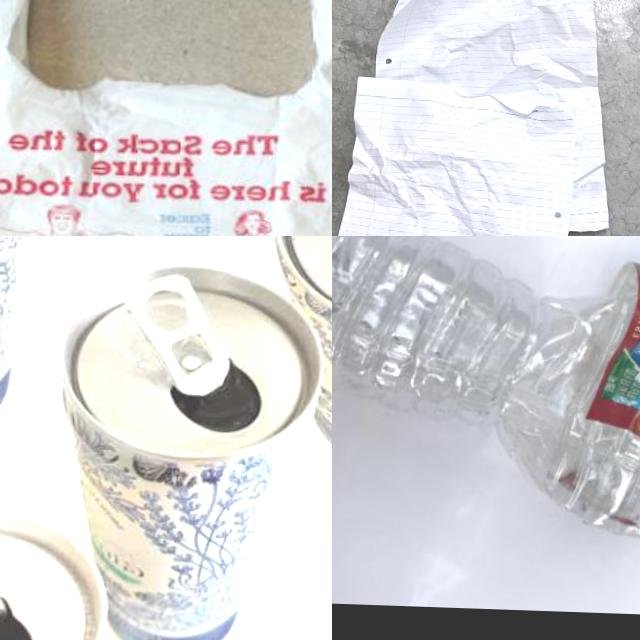aba de lata: (127, 262, 228, 410)
garrafa plástica: (332, 236, 640, 548)
lata: (50, 258, 329, 640), (0, 492, 109, 640)
papel: (332, 0, 617, 236)
sacola plástica: (0, 0, 332, 236)
